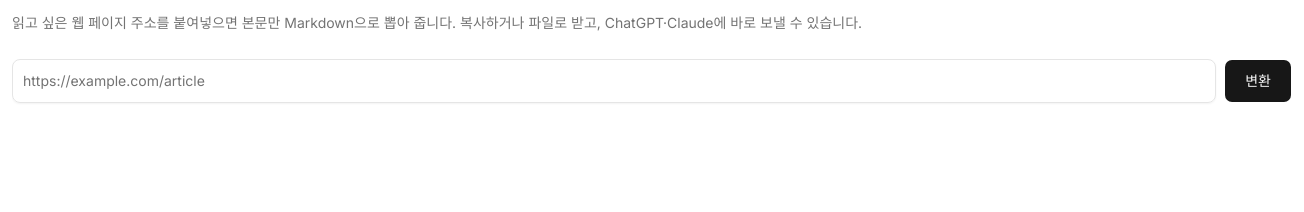
Test: empty 오류는 메시지를 보이고 결과 카드를 만들지 않으며 입력창은 계속 쓸 수 있다
The image size is (1304, 212).
Type "https://example.com/a" into the field named "웹 페이지 URL". click: (614, 81)
box: [12,59,1216,103]
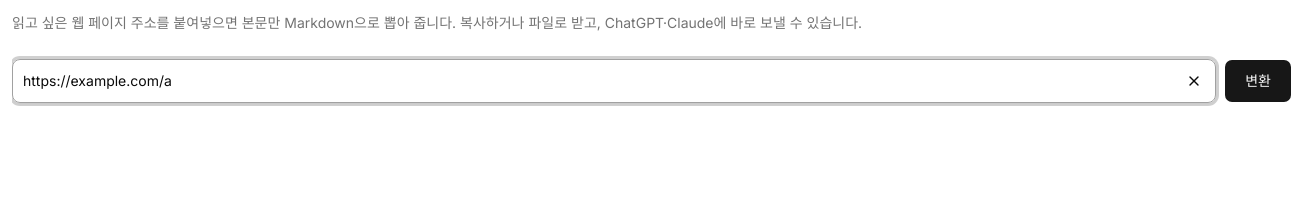
Click the button "변환". click: click(1258, 81)
box: [1224,59,1292,103]
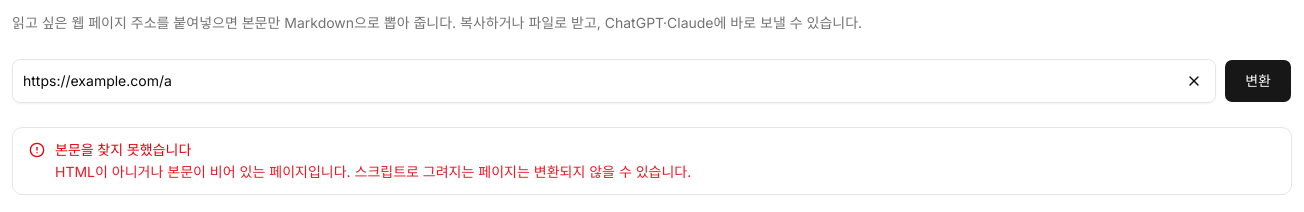
expect the message shows "본문을 찾지 못했습니다": met, box [55,141,191,158]
Type "x" into the field named "웹 페이지 URL". click: (614, 81)
box: [12,59,1216,103]
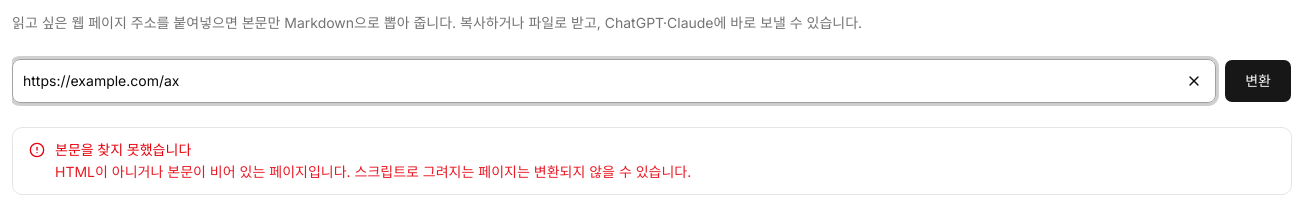
expect the field named "웹 페이지 URL" holds "https://example.com/ax": met, box [12,59,1216,103]
